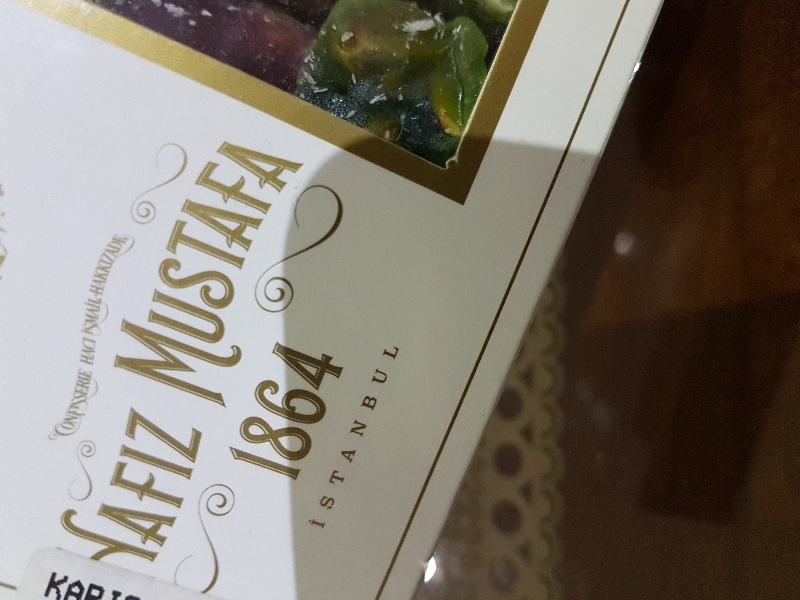text: (225, 138, 240, 410), (241, 138, 256, 410), (257, 138, 272, 410), (273, 138, 288, 410), (289, 138, 304, 410), (210, 138, 224, 410), (321, 346, 336, 530), (337, 346, 352, 530), (353, 346, 368, 530), (369, 346, 384, 530), (385, 346, 400, 530), (113, 400, 128, 577), (129, 400, 144, 577), (145, 400, 160, 577), (161, 400, 176, 577), (177, 400, 192, 577), (193, 400, 208, 577), (306, 346, 320, 530), (289, 333, 304, 484), (305, 333, 320, 484), (321, 333, 336, 484), (113, 229, 129, 337), (81, 229, 96, 337), (97, 229, 112, 337), (337, 333, 347, 484), (280, 333, 288, 484), (81, 368, 97, 442), (65, 368, 80, 442), (51, 368, 64, 442), (109, 400, 112, 577), (76, 229, 80, 337), (83, 337, 96, 368), (209, 400, 211, 577), (52, 571, 64, 600), (81, 578, 96, 600), (97, 578, 112, 600), (113, 578, 128, 600), (129, 578, 142, 600), (71, 578, 80, 600), (401, 346, 402, 530), (65, 571, 71, 600)
